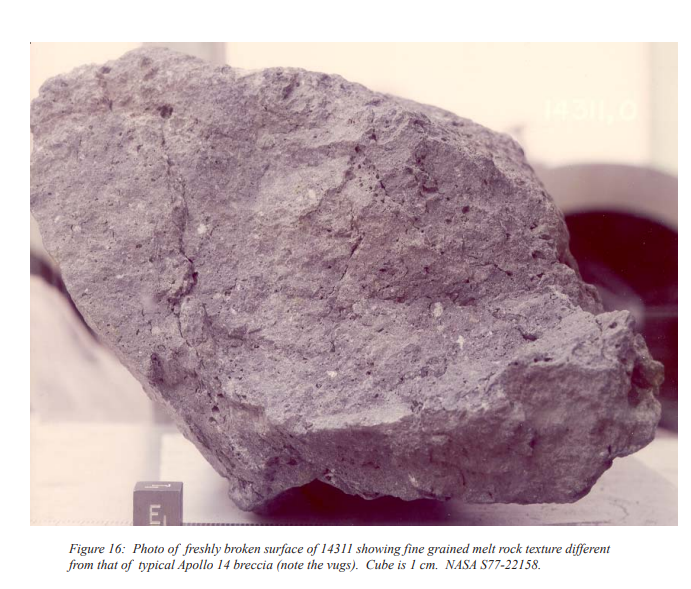Breccia: (51, 61, 664, 509), (28, 40, 525, 410), (164, 156, 546, 407)
